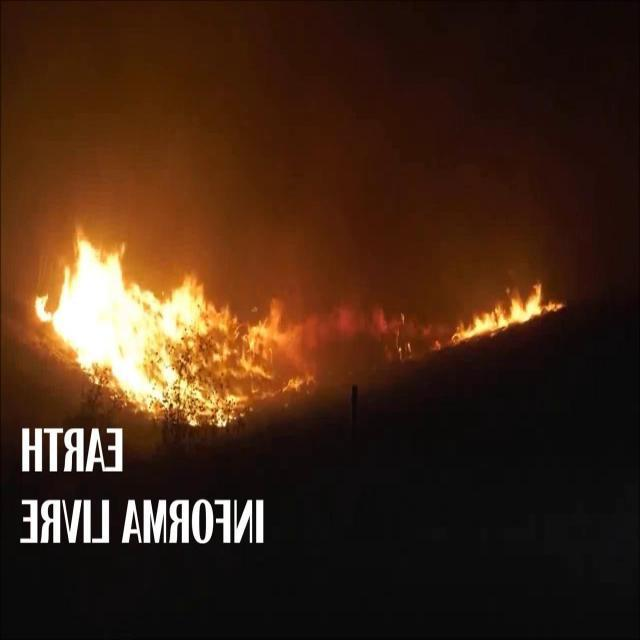Fire: (34, 220, 314, 426), (450, 281, 565, 343)
